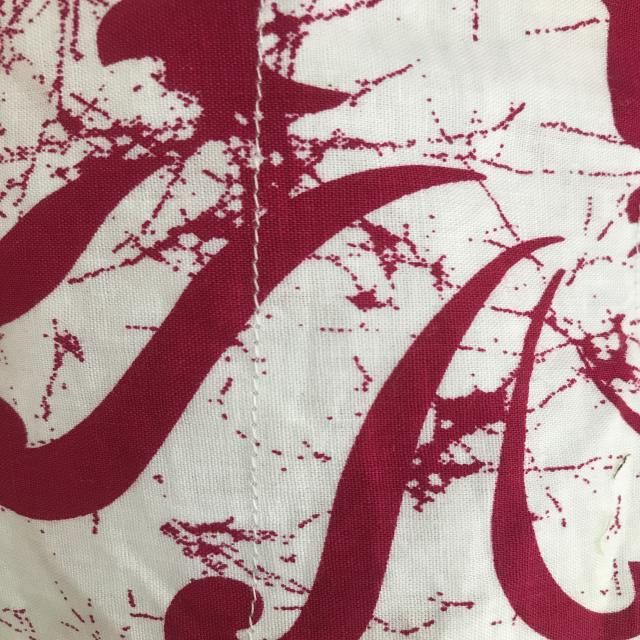good: (240, 176, 274, 292), (242, 364, 268, 506)
